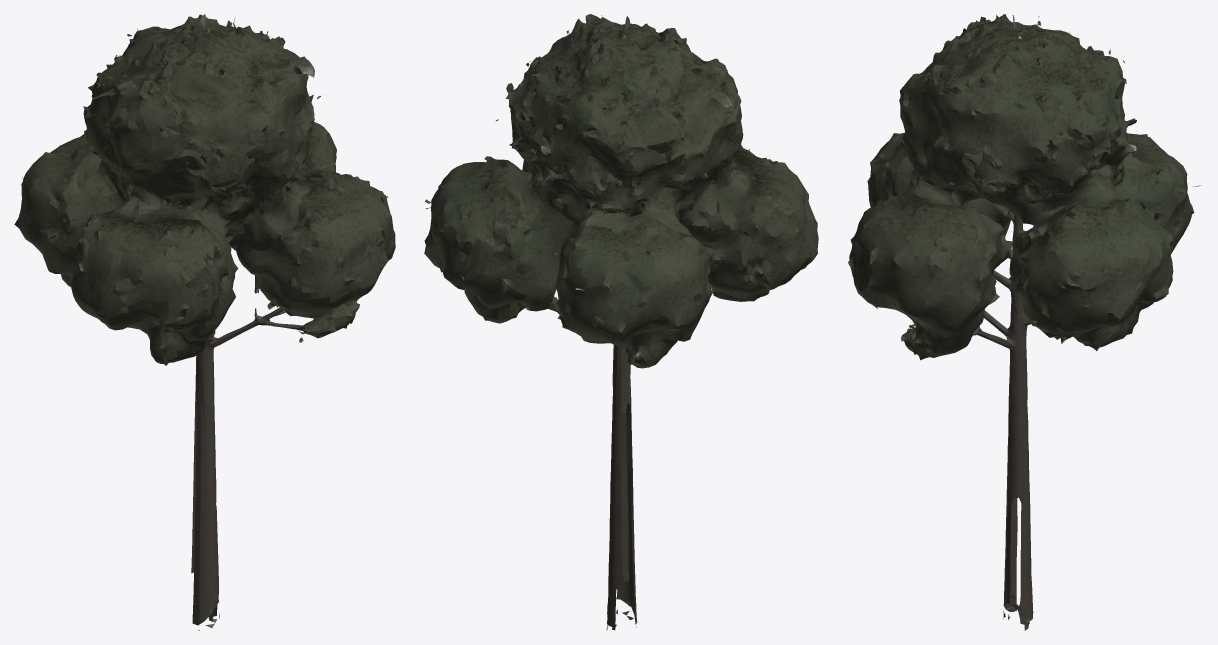
Rendered from m19-birch.glb.
3 views of the same model, side by side, from view 1: azimuth 30°, elevation 25°; view 2: azimuth 150°, elevation 25°; view 3: azimuth 270°, elevation 25° (orthographic).
Size of the model in its own units: 1.02 by 1.9 by 1.01.
1 material, 1 textured.
